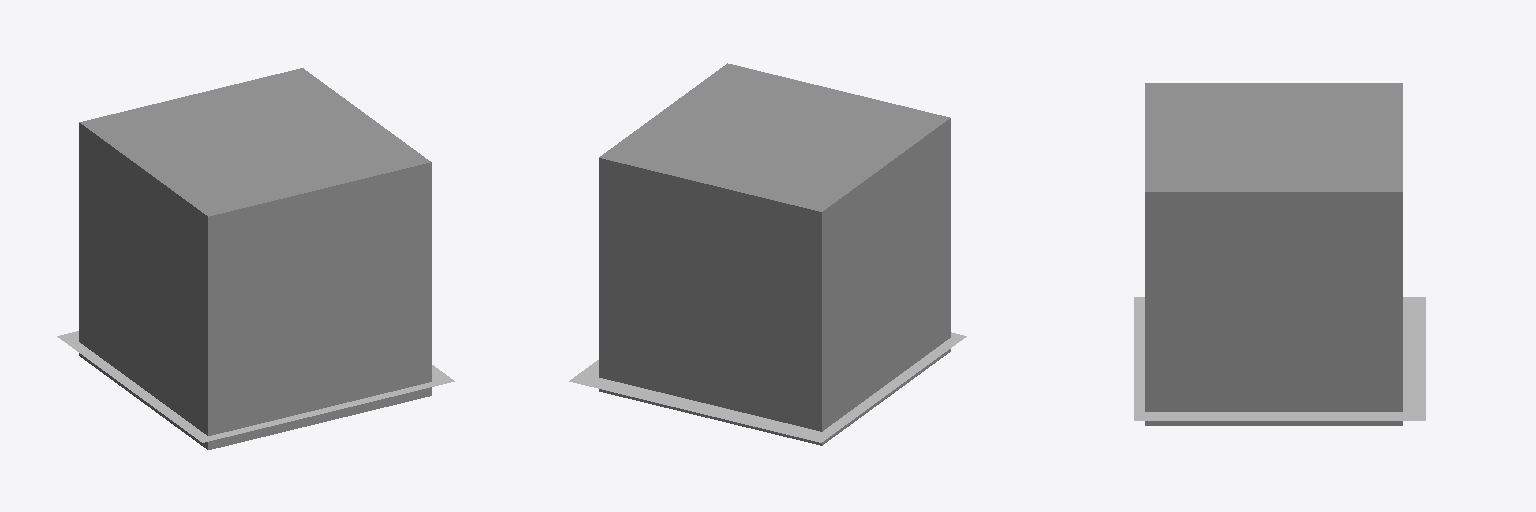
File: demoscene.obj
3 views of the same model, side by side, from view 1: azimuth 30°, elevation 25°; view 2: azimuth 150°, elevation 25°; view 3: azimuth 270°, elevation 25° (orthographic).
Parts seen in each view (by area): view 1: sky_Cube.004, groundplane_Plane; view 2: sky_Cube.004, groundplane_Plane; view 3: sky_Cube.004, groundplane_Plane.
Boxes of the visible parts, box(x1,y1,x2,y2) form: sky_Cube.004: box(79, 68, 431, 449); groundplane_Plane: box(57, 331, 454, 442); sky_Cube.004: box(599, 63, 950, 445); groundplane_Plane: box(569, 332, 966, 442); sky_Cube.004: box(1145, 83, 1402, 425); groundplane_Plane: box(1134, 297, 1425, 420).
Bounding box in the file's own units: 733 × 648 × 733.